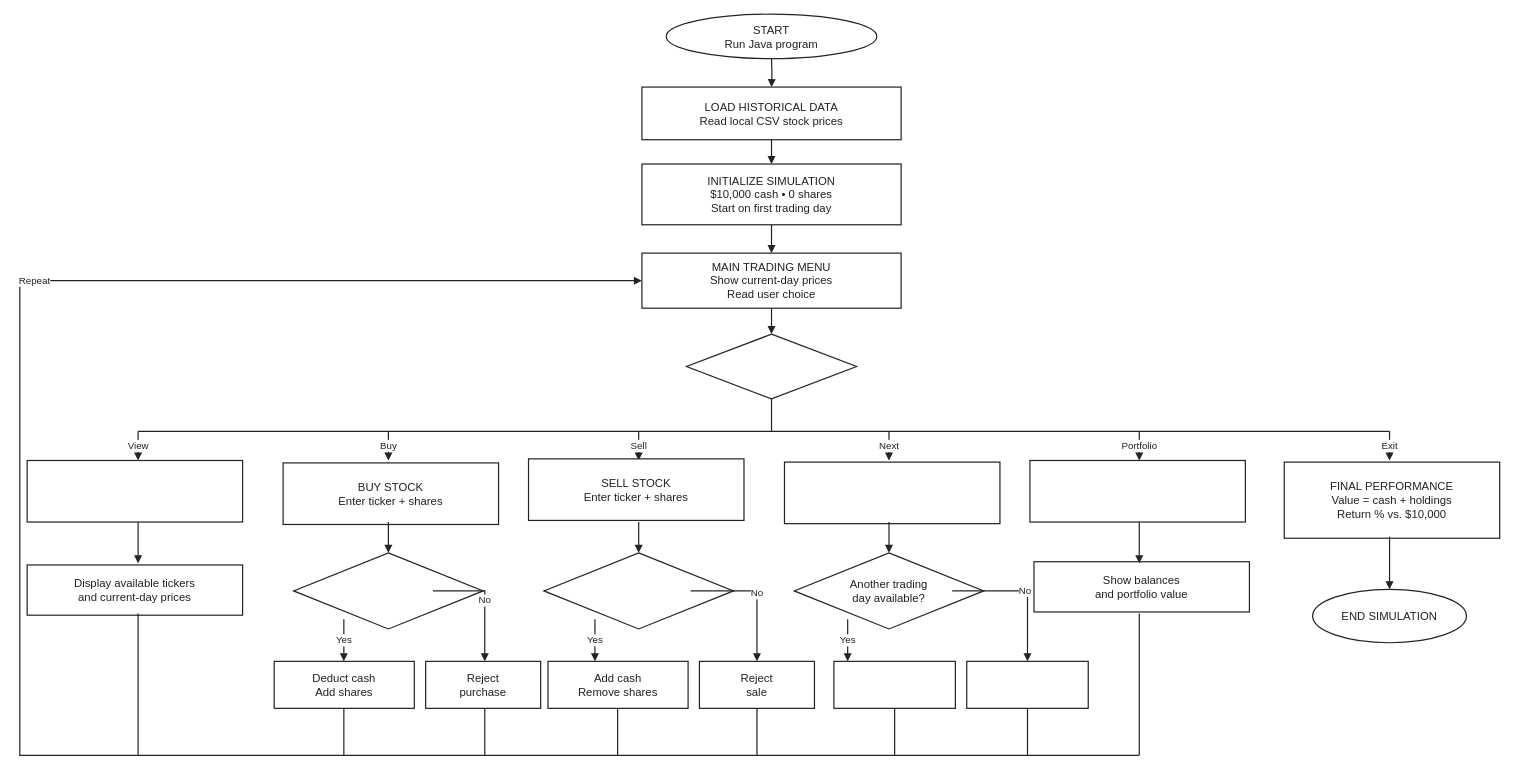
Some shapes in this 1515 by 777 pixel diagram are drawn without their labels. Each missing label, with the box of its shape:
ADVANCE TRADING DAY Move to next CSV date: (784, 461, 1000, 524)
Choose an action: (686, 333, 857, 399)
Enough cash for purchase?: (293, 552, 483, 629)
Enough shares to sell?: (543, 552, 734, 629)
No more trading days: (966, 660, 1088, 709)
Reveal next day’s prices: (833, 660, 956, 709)
VIEW CURRENT PRICES List only today’s prices: (26, 460, 243, 522)
VIEW PORTFOLIO Cash + holdings + total value: (1029, 460, 1246, 522)
